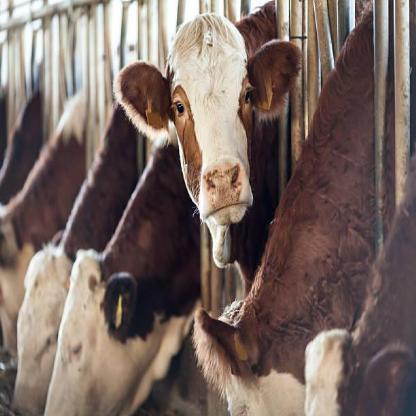cow: (201, 4, 375, 416), (114, 13, 301, 265), (44, 147, 197, 416)
